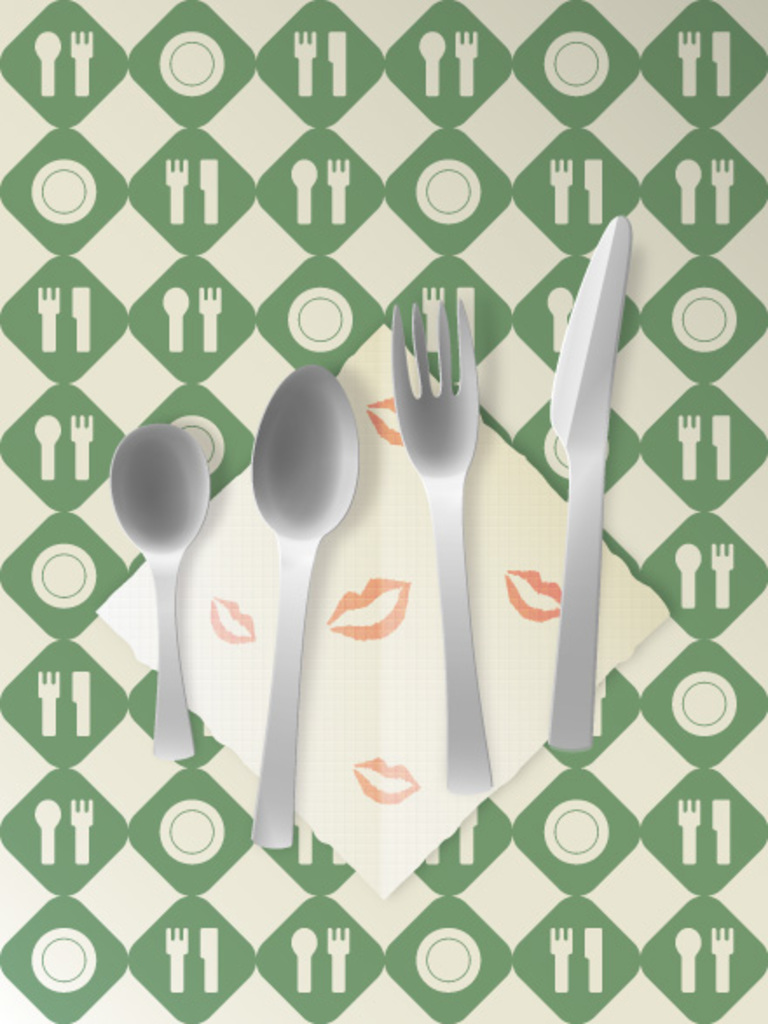fork: (391, 297, 493, 794)
